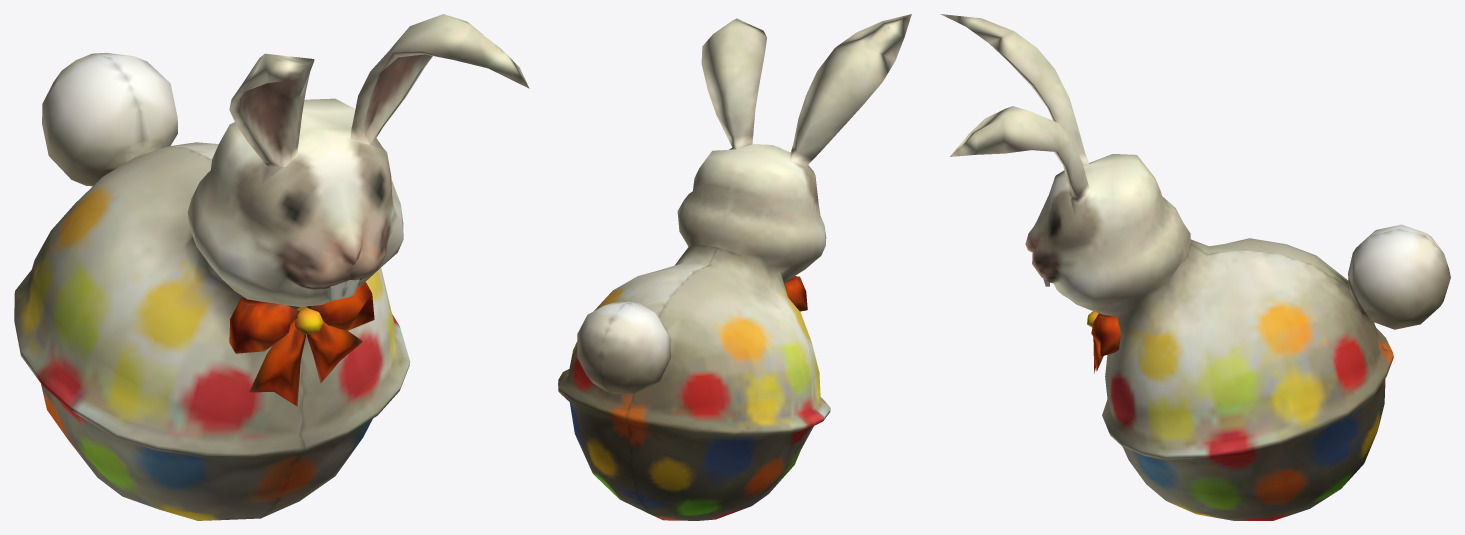
3 renders of one model, left to right at view 1: azimuth 30°, elevation 25°; view 2: azimuth 150°, elevation 25°; view 3: azimuth 270°, elevation 25°, orthographic. The views are drawn at different scales.
Size of the model in its own units: 1.23 by 2.07 by 2.11.
Materials: 1 (1 with a texture image).
